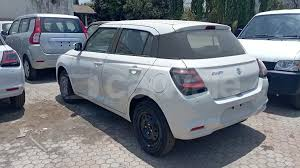Swift: (54, 21, 270, 150)
